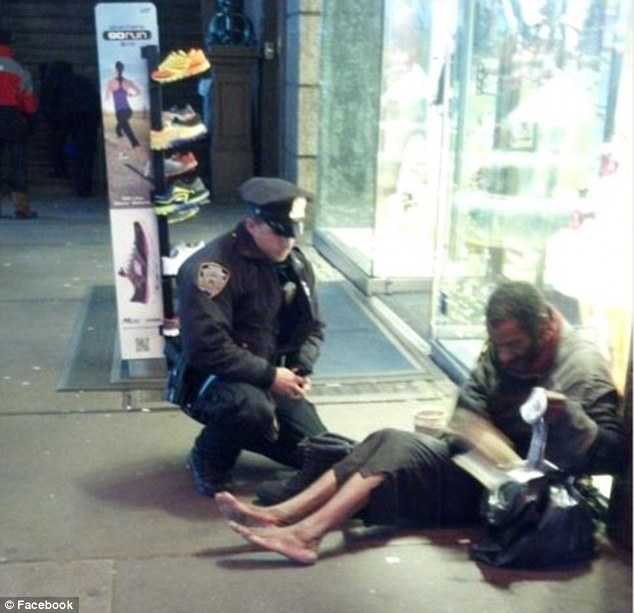fall: (196, 243, 633, 573)
